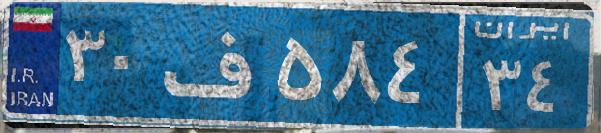0: (110, 28, 158, 105)
3: (57, 26, 110, 107), (475, 38, 525, 113)
4: (385, 28, 445, 110), (525, 38, 570, 115)
5: (273, 28, 330, 110)
8: (330, 28, 385, 110)
ف: (158, 15, 273, 115)
